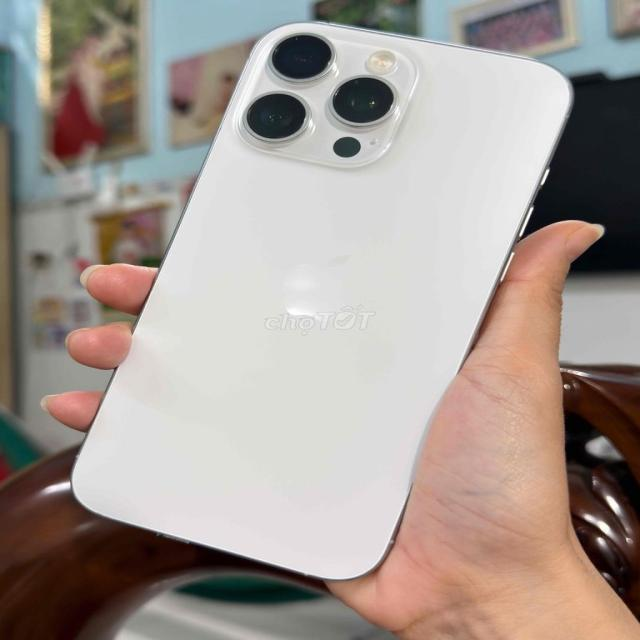gen_16: (72, 23, 571, 578)
